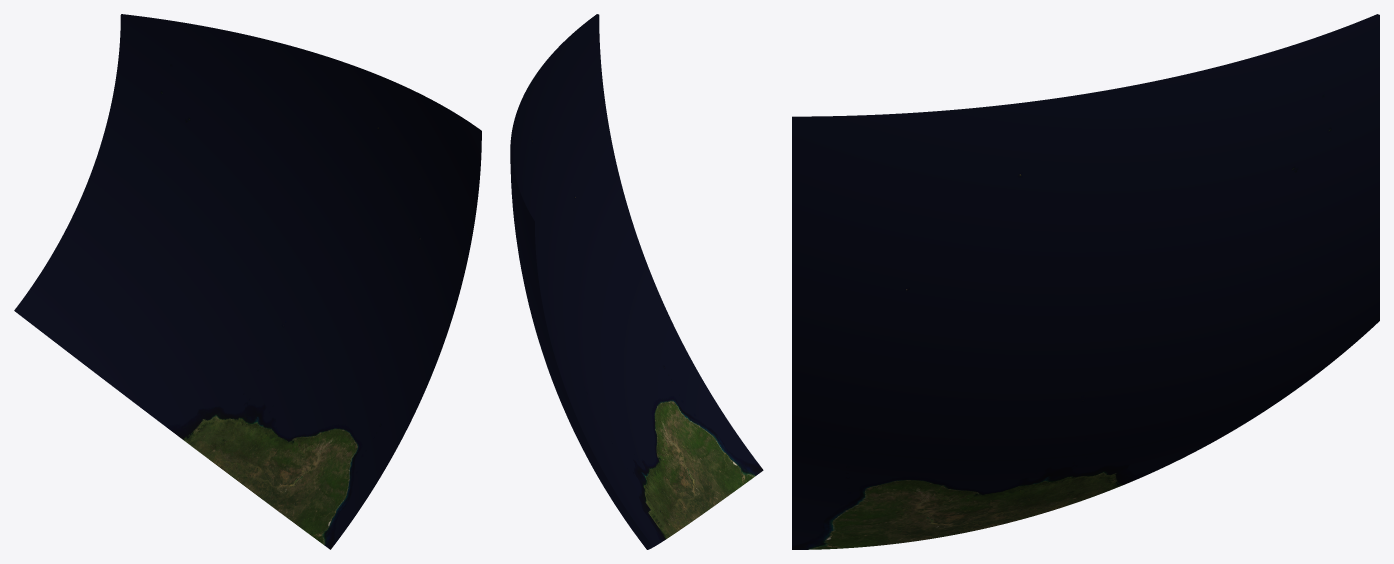
The picture shows the model from 3 angles, left to right: view 1: azimuth 30°, elevation 25°; view 2: azimuth 150°, elevation 25°; view 3: azimuth 270°, elevation 25°; orthographic projection. The views are drawn at different scales.
Visible parts, largest first — view 1: DefaultName.007, DefaultName.001, DefaultName.005, DefaultName.003; view 2: DefaultName.001, DefaultName.003, DefaultName.007, DefaultName.005; view 3: DefaultName.003, DefaultName.005, DefaultName.001, DefaultName.007.
Boxes of the visible parts, box(x1,y1,x2,y2) form: DefaultName.007: box(14, 167, 291, 443); DefaultName.001: box(189, 257, 442, 549); DefaultName.005: box(93, 14, 329, 256); DefaultName.003: box(292, 57, 481, 347); DefaultName.001: box(556, 250, 763, 536); DefaultName.003: box(516, 14, 641, 330); DefaultName.007: box(550, 333, 669, 549); DefaultName.005: box(510, 115, 564, 388); DefaultName.003: box(792, 90, 1109, 380); DefaultName.005: box(1109, 14, 1379, 333); DefaultName.001: box(792, 334, 1109, 549); DefaultName.007: box(1110, 201, 1379, 490).
Bounding box in the file's own units: 31962 × 45100 × 44873.
Materials: 4 (4 with a texture image).
